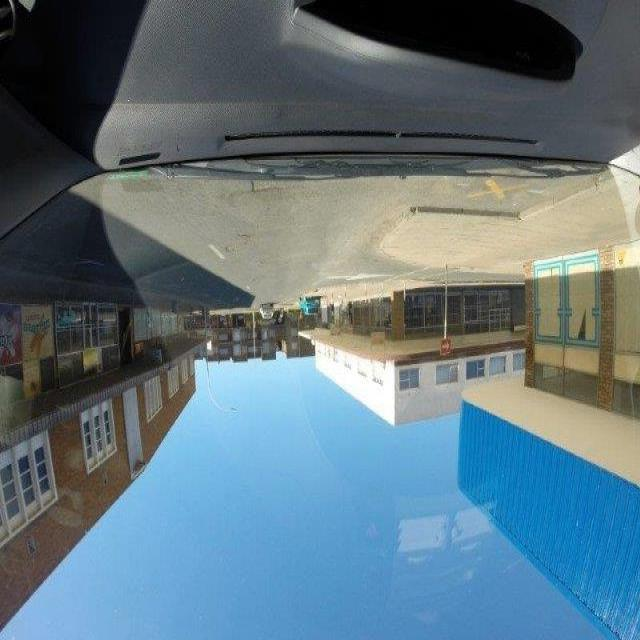lubang: (222, 232, 256, 256), (247, 178, 280, 200)
